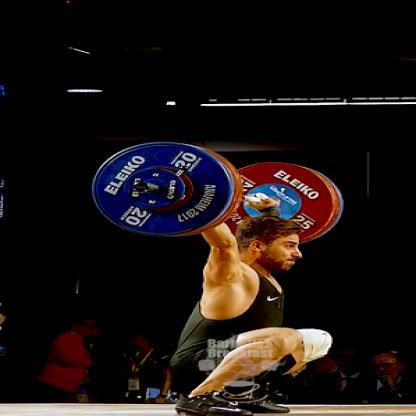Barbell: (131, 181, 155, 196)
